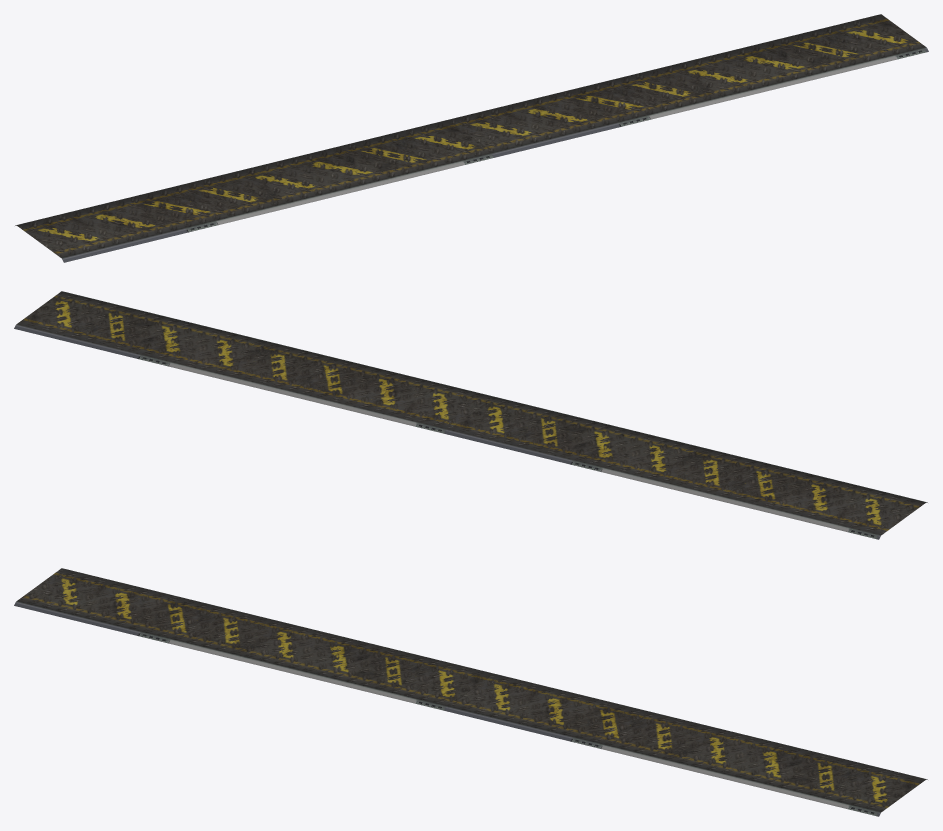
The model's file is FLO_FloorStrip03_5x0'5.FBX.
3 views of the same model, one above another, from view 1: azimuth 30°, elevation 25°; view 2: azimuth 150°, elevation 25°; view 3: azimuth 330°, elevation 25° (orthographic).
Parts seen in each view (by area): view 1: FLO_FloorStrip03_5x0'5; view 2: FLO_FloorStrip03_5x0'5; view 3: FLO_FloorStrip03_5x0'5.
Part boxes in pixels (x1,y1,x2,y2): FLO_FloorStrip03_5x0'5: (15, 14, 928, 262); FLO_FloorStrip03_5x0'5: (14, 291, 927, 539); FLO_FloorStrip03_5x0'5: (14, 568, 927, 816).
Size of the model in its own units: 500 by 1.5 by 50.
1 material, 1 textured.
